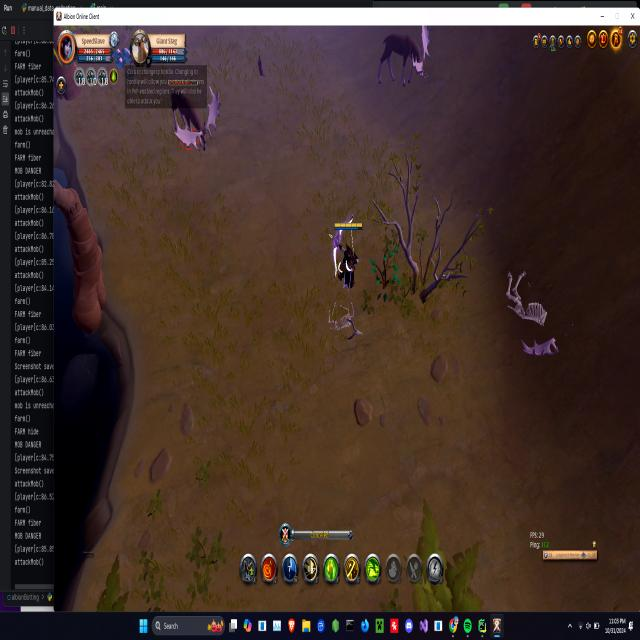hide: (114, 45, 130, 71)
ore: (165, 76, 222, 152), (376, 23, 435, 87)
red: (332, 217, 362, 290)
